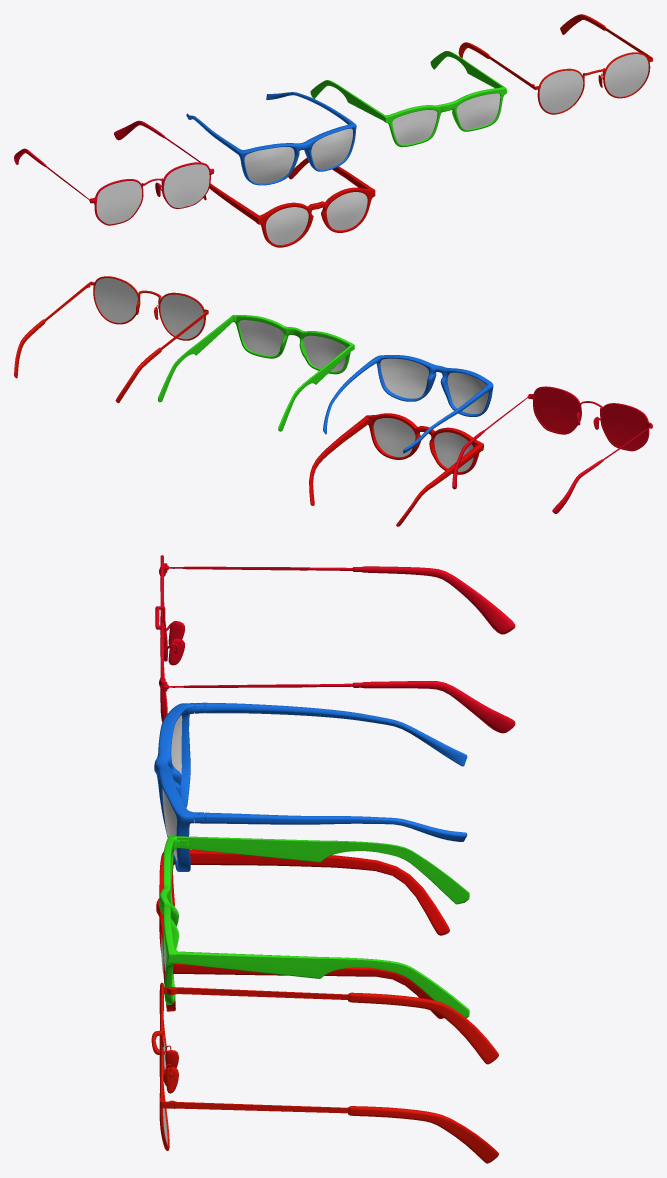
The model's file is newglasses.fbx.
3 renders of one model, top to bottom at view 1: azimuth 30°, elevation 25°; view 2: azimuth 150°, elevation 25°; view 3: azimuth 270°, elevation 25°, orthographic. The views are drawn at different scales.
Visible parts, largest first — view 1: glasses3, glasses2, glasses4, glasses1, glasses5; view 2: glasses2, glasses3, glasses4, glasses1, glasses5; view 3: glasses3, glasses2, glasses5, glasses1, glasses4.
Boxes of the visible parts, x1,y1,x2,y2 form: glasses3: (310,51,506,147); glasses2: (186,92,356,185); glasses4: (203,158,375,247); glasses1: (14,120,214,225); glasses5: (458,14,652,114); glasses2: (323,355,493,453); glasses3: (158,315,354,431); glasses4: (309,413,483,526); glasses1: (452,386,652,513); glasses5: (14,276,208,403); glasses3: (159,836,469,1018); glasses2: (154,702,467,871); glasses5: (151,982,498,1163); glasses1: (155,555,515,733); glasses4: (156,849,449,1018).
Bounding box in the file's own units: 223 × 42.28 × 62.44.
